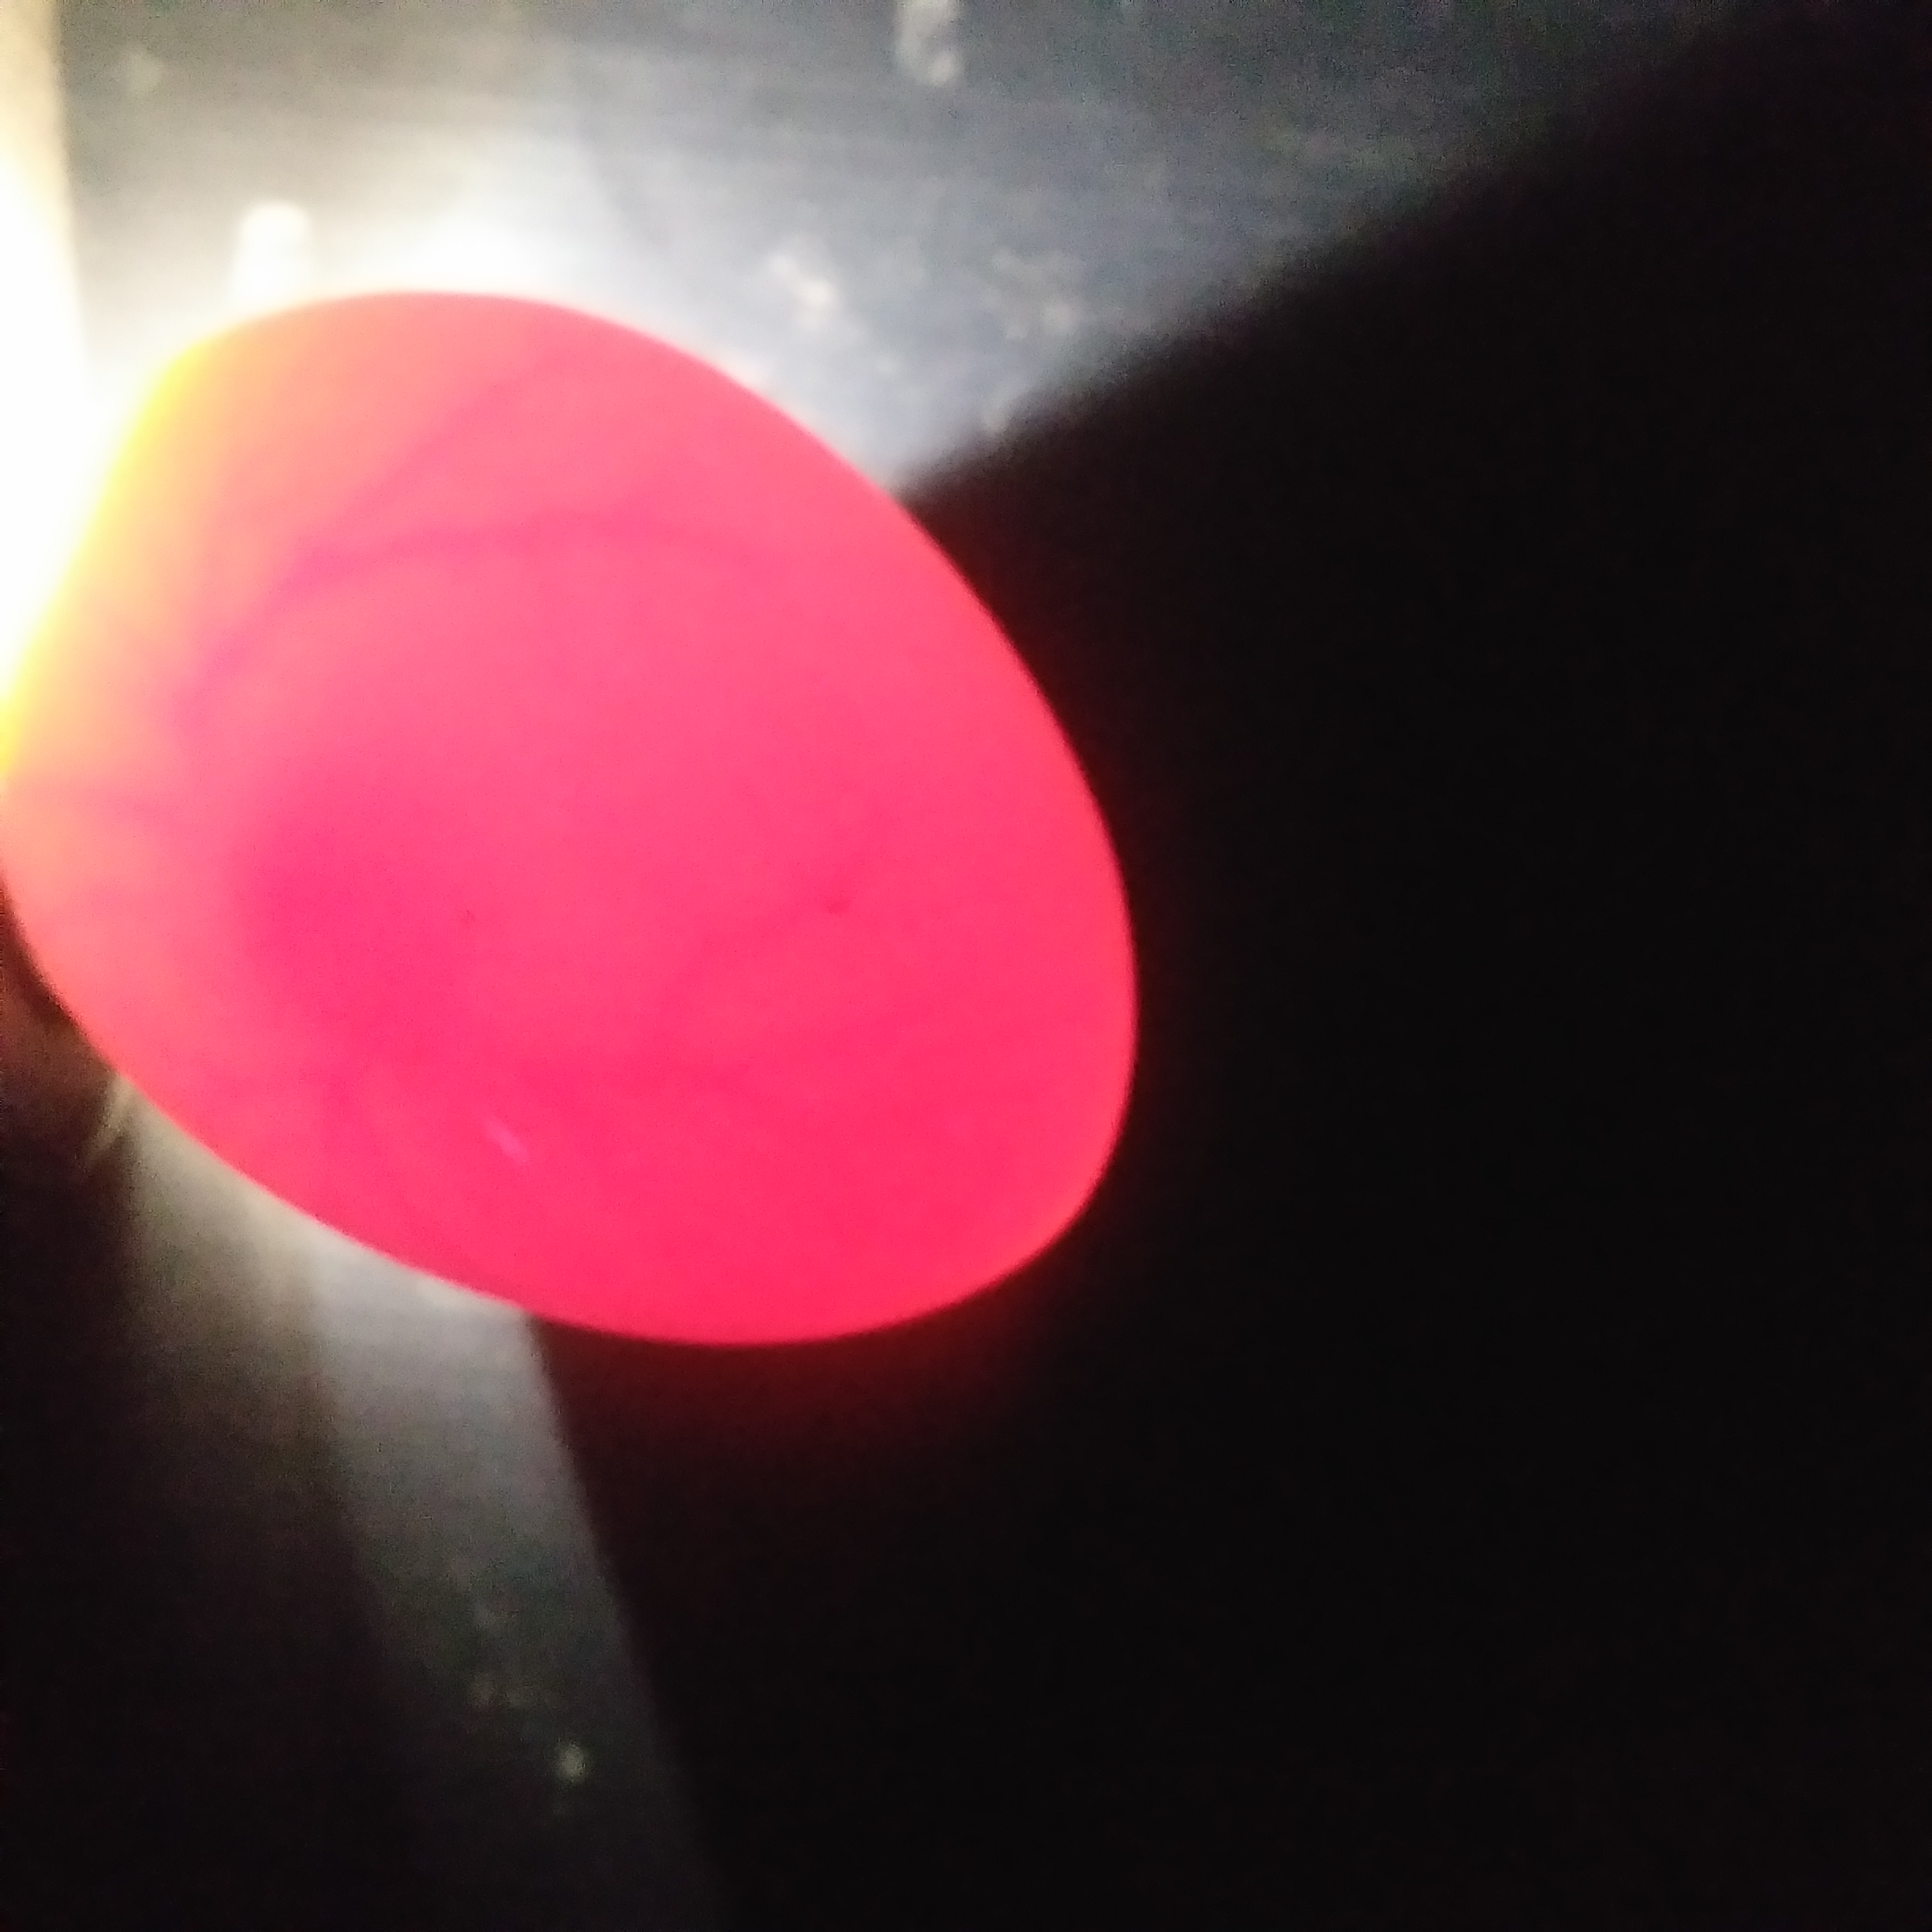bloodcell: (184, 421, 676, 669), (81, 688, 161, 913)
